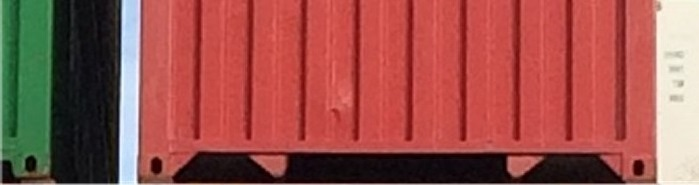container_no_door: (138, 4, 659, 178)
